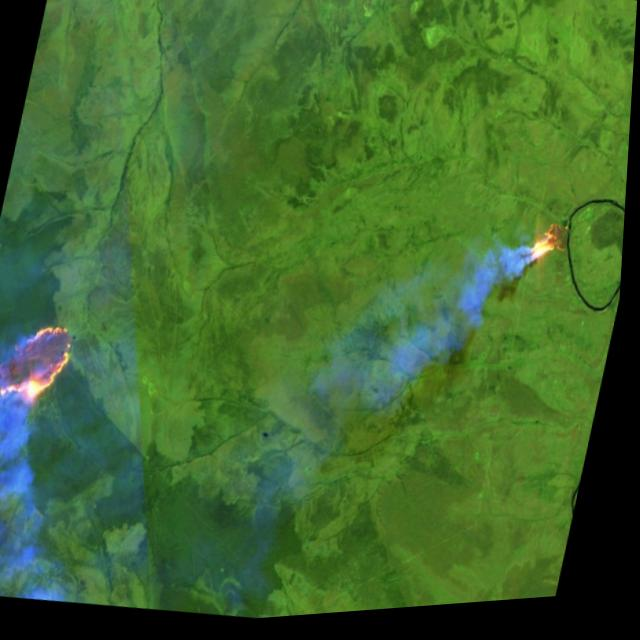fire: (0, 298, 94, 419), (518, 208, 593, 283)
